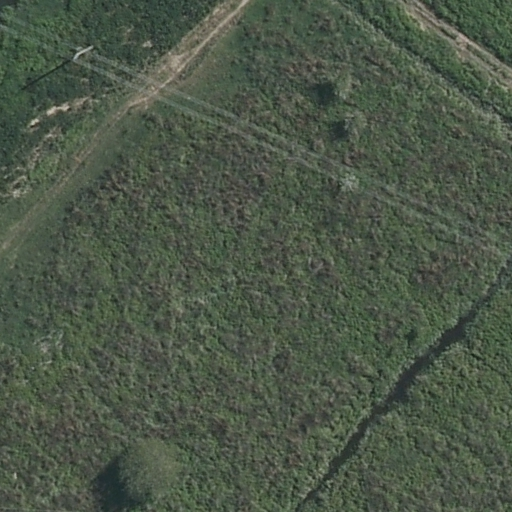DT: (71, 42, 97, 59)
